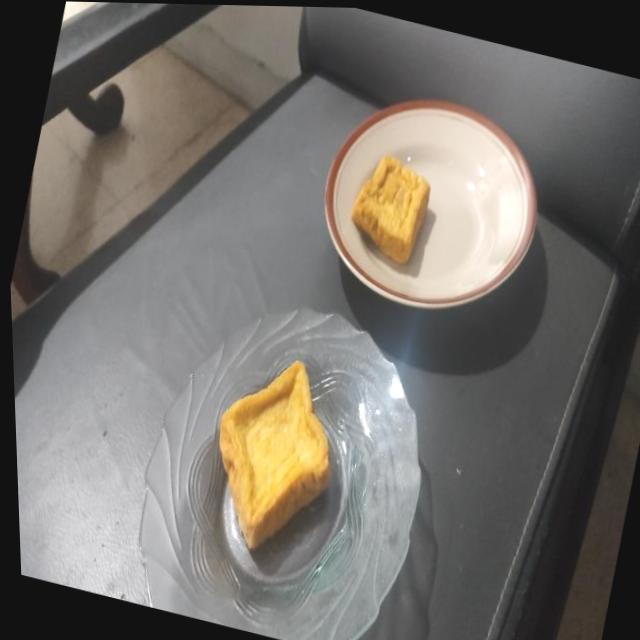tahu_goreng: (220, 361, 330, 548), (350, 154, 430, 264)
